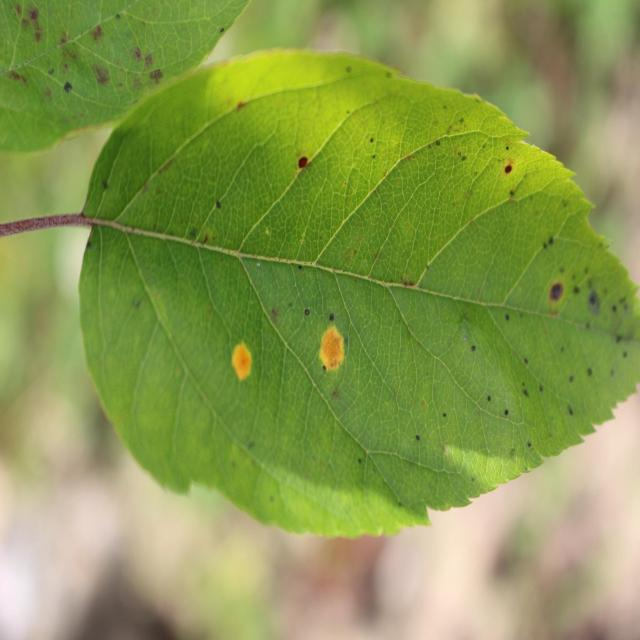Rust: (314, 306, 356, 398), (223, 327, 258, 385)
